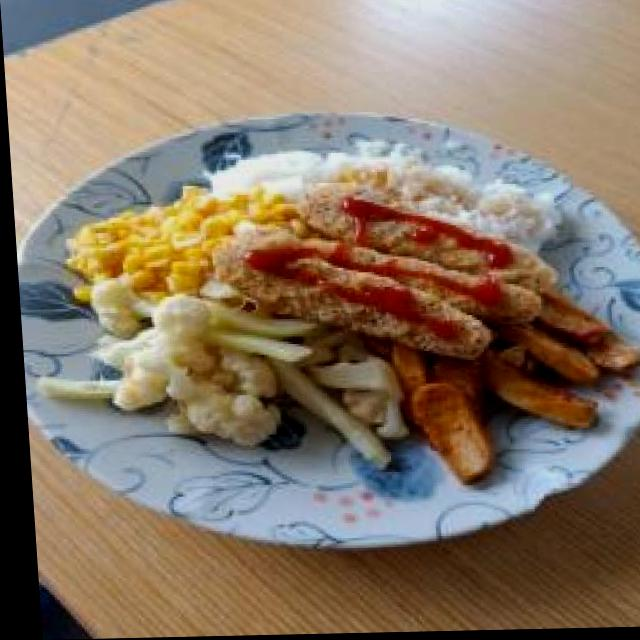rice: (191, 140, 560, 255)
